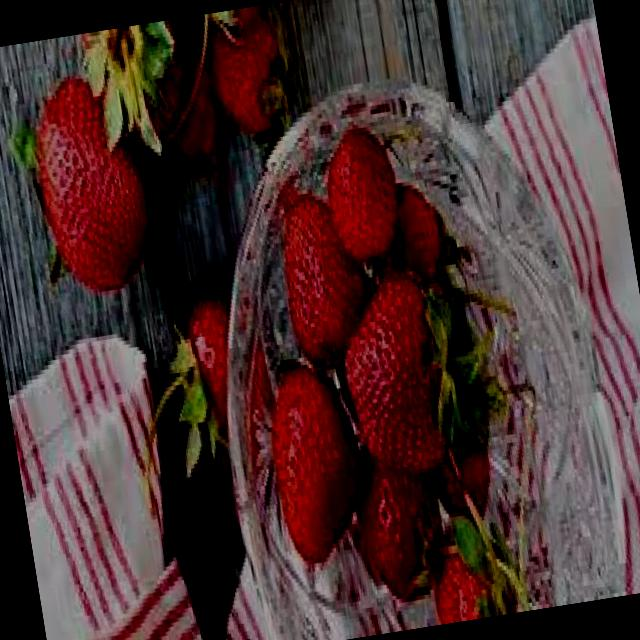Strawberry: (5, 67, 164, 306), (326, 260, 458, 488), (257, 355, 376, 572), (270, 190, 382, 378), (134, 18, 231, 208), (348, 457, 442, 612), (201, 7, 301, 146), (316, 124, 406, 270), (175, 288, 252, 450), (386, 182, 454, 287), (425, 443, 506, 528), (424, 549, 496, 626)
